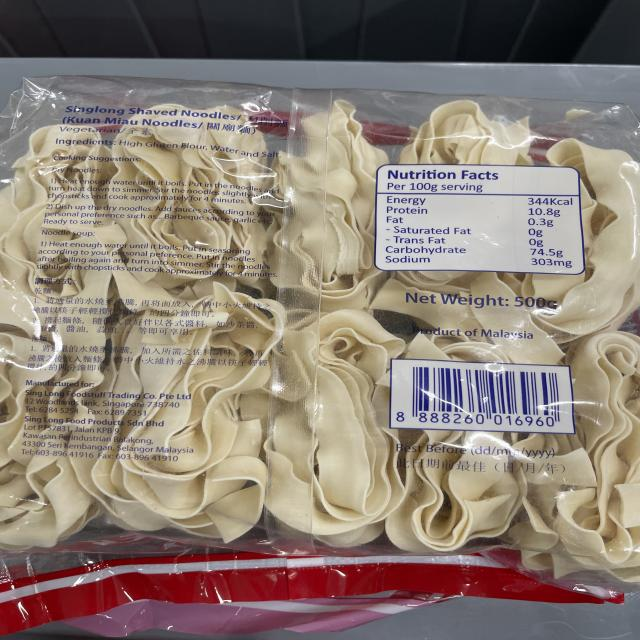object_name: (4, 92, 640, 591)
